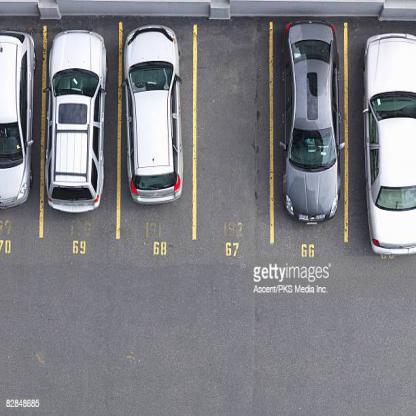Car: (354, 18, 416, 262), (282, 10, 346, 230), (120, 17, 190, 218), (47, 33, 115, 222), (1, 31, 33, 226)
Empty: (200, 26, 268, 244)
